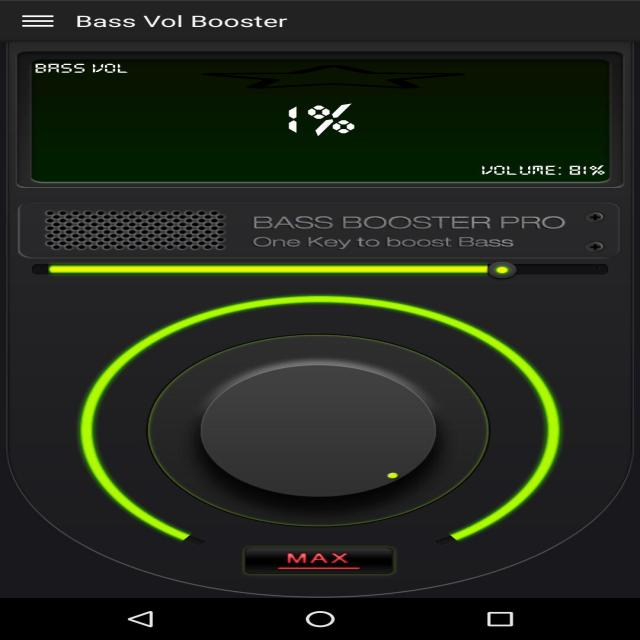forced continuity: (201, 65, 466, 89)
